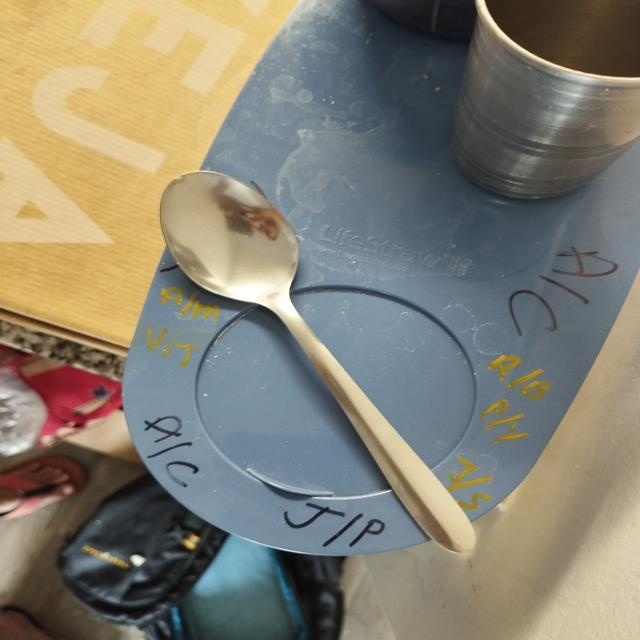Spoon: (92, 167, 531, 561)
